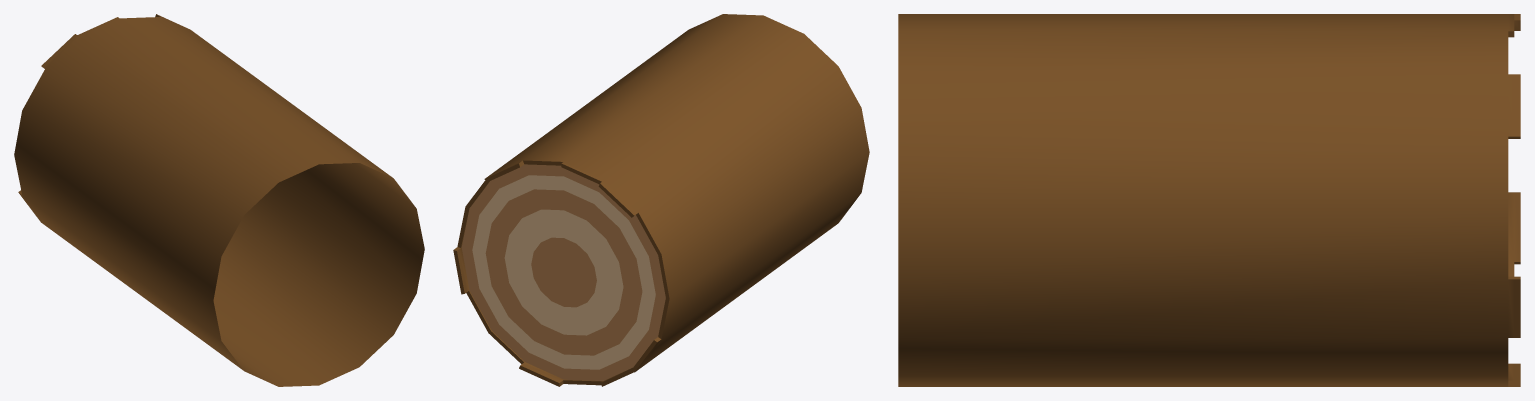
The model's file is Log_end.fbx.
3 views of the same model, side by side, from view 1: azimuth 30°, elevation 25°; view 2: azimuth 150°, elevation 25°; view 3: azimuth 270°, elevation 25° (orthographic). The views are drawn at different scales.
Parts seen in each view (by area): view 1: Log_end; view 2: Log_end; view 3: Log_end.
Part boxes in pixels (box(x1,y1,x2,y2)): Log_end: box(14, 14, 424, 386); Log_end: box(453, 14, 869, 386); Log_end: box(898, 14, 1520, 386).
Bounding box in the file's own units: 600 × 600 × 1000.
